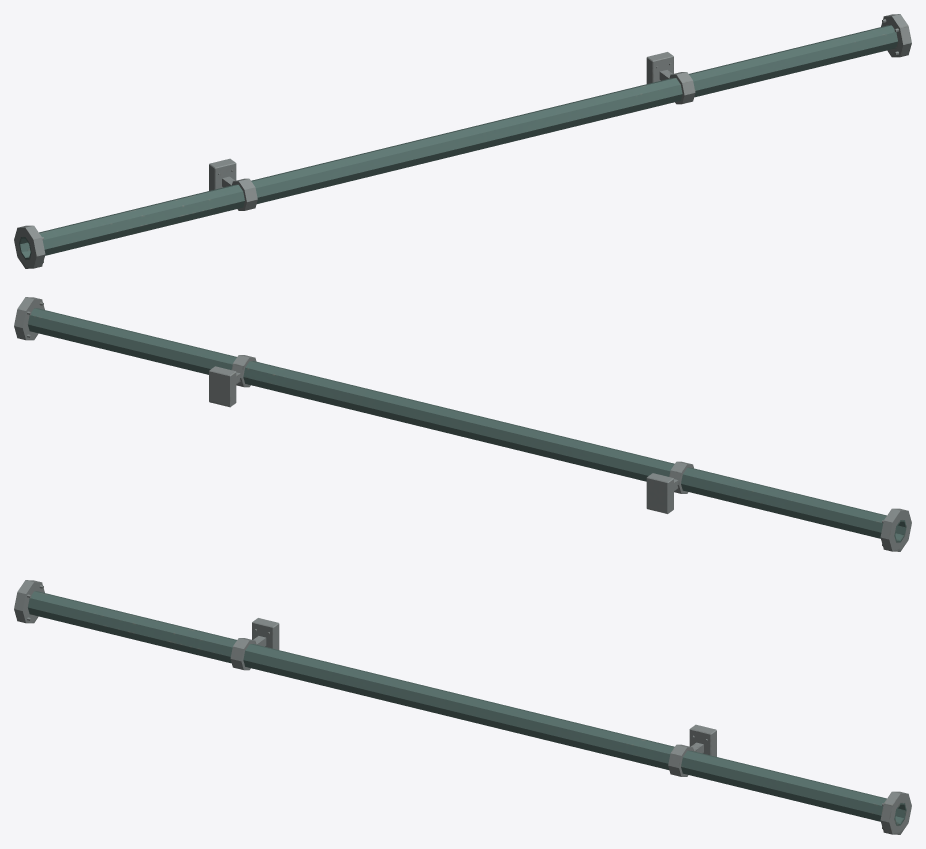
File: bunker_pipe_valve_kit_straight.glb
3 renders of one model, top to bottom at view 1: azimuth 30°, elevation 25°; view 2: azimuth 150°, elevation 25°; view 3: azimuth 330°, elevation 25°, orthographic.
Parts seen in each view (by area): view 1: PipeValve; view 2: PipeValve; view 3: PipeValve.
Boxes of the visible parts, x1=… form: PipeValve: x1=14, y1=14, x2=911, y2=268; PipeValve: x1=14, y1=297, x2=911, y2=551; PipeValve: x1=14, y1=580, x2=911, y2=834.
Size of what is drawn, in the model's own units: 4 by 0.18 by 0.285.
1 material, 1 textured.
